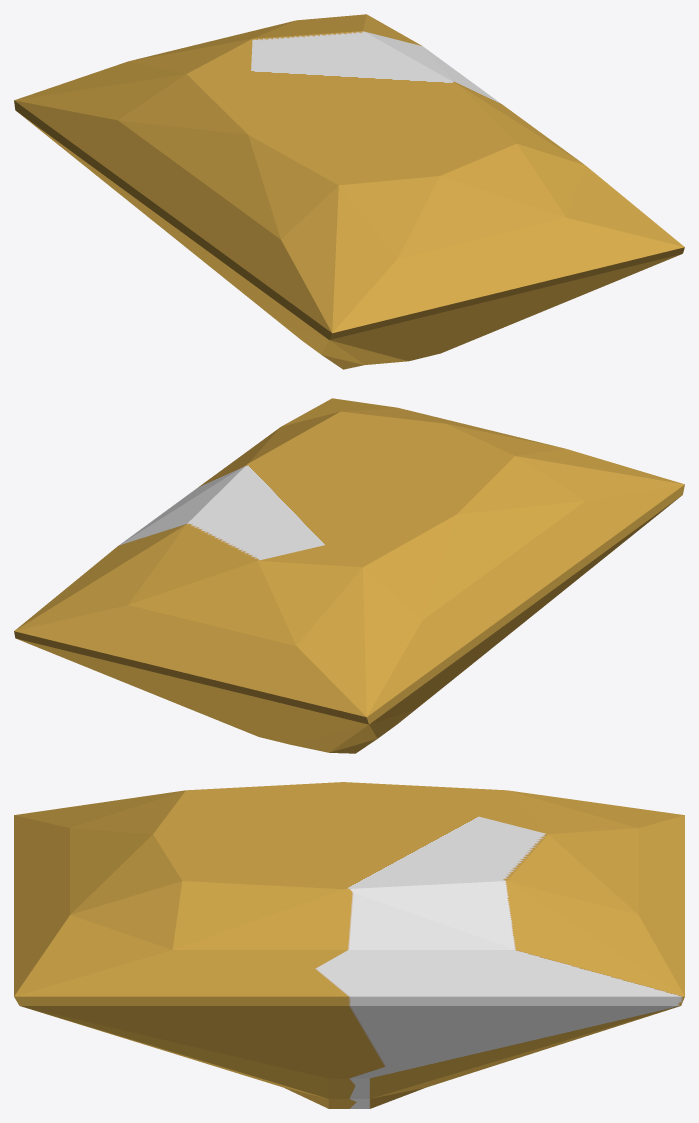
Rendered from november.glb.
3 renders of one model, top to bottom at view 1: azimuth 30°, elevation 25°; view 2: azimuth 150°, elevation 25°; view 3: azimuth 270°, elevation 25°, orthographic. The views are drawn at different scales.
Parts seen in each view (by area): view 1: orange_top; view 2: orange_top; view 3: orange_top.
Part boxes in pixels (<box>): orange_top: <box>14,14,684,369</box>; orange_top: <box>14,398,684,753</box>; orange_top: <box>14,782,684,1108</box>.
Bounding box in the file's own units: 822 × 558 × 1280.
1 material, 1 textured.
